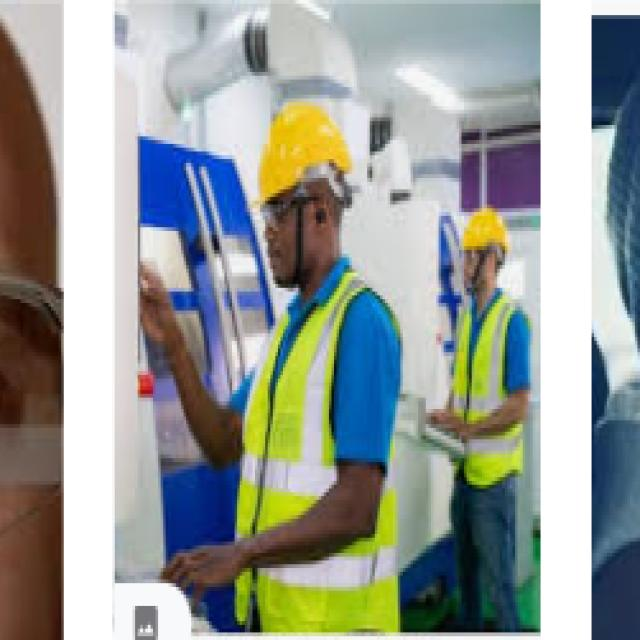glasses: (256, 191, 334, 225), (461, 246, 502, 262)
